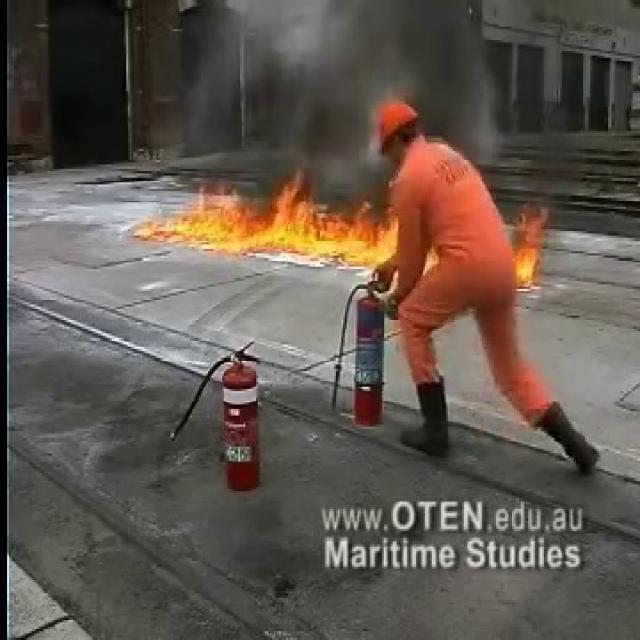Fire: (135, 179, 393, 268)
Smoke: (170, 0, 530, 171)
